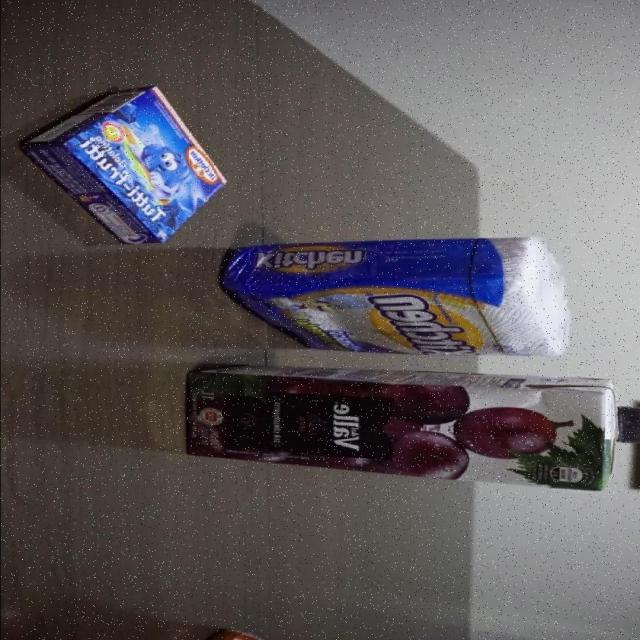Gelatine: (26, 78, 229, 242)
Napkin: (222, 238, 568, 358)
